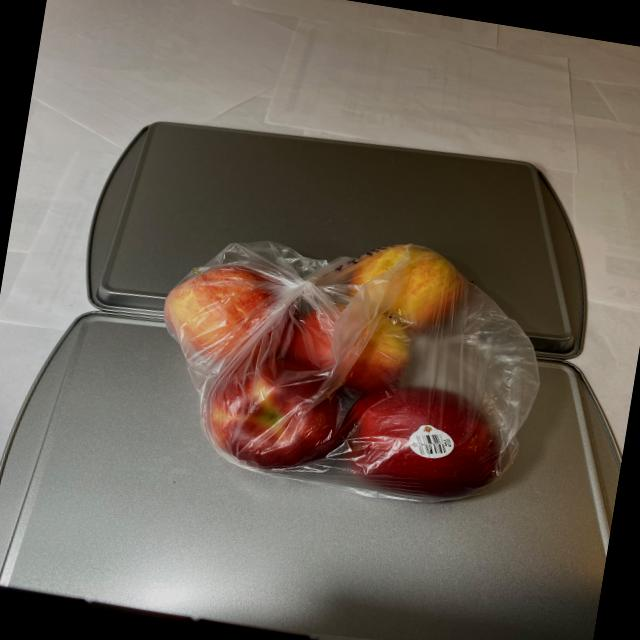apple: (132, 206, 550, 517)
